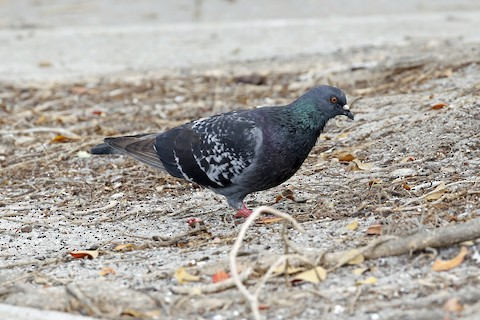pigeon: (87, 84, 361, 226)
